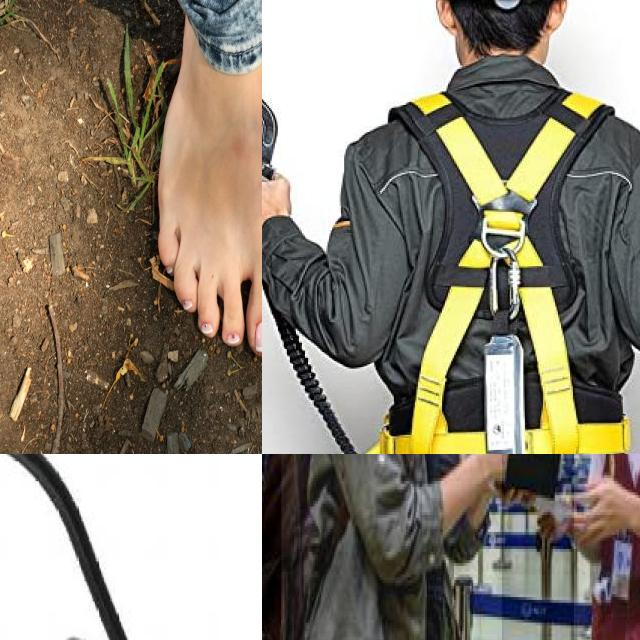Barefoots: (158, 0, 262, 357)
Ear-protection: (0, 454, 147, 640)
Harness: (370, 89, 627, 454)
hand_noglove: (566, 467, 627, 552)
person: (281, 454, 503, 640)
